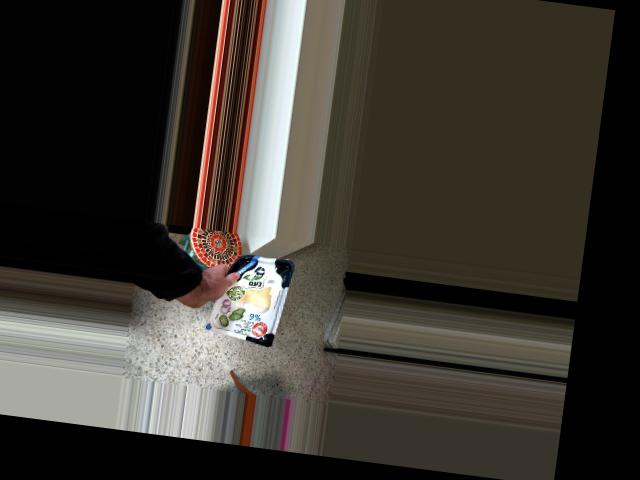cheese: (192, 264, 270, 343)
